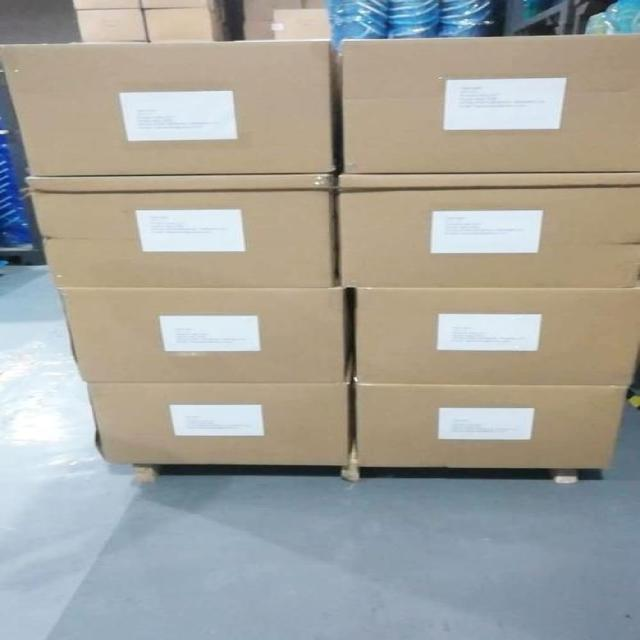box: (0, 40, 344, 175), (342, 32, 640, 174), (22, 174, 335, 289), (335, 172, 640, 288), (52, 288, 346, 384), (356, 287, 640, 384), (355, 382, 630, 468), (86, 381, 351, 466)
